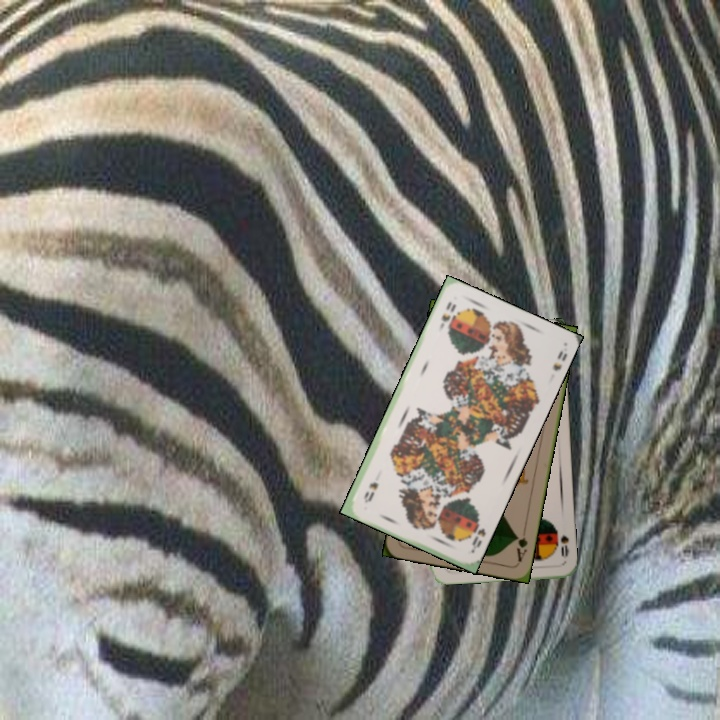GA: (512, 531, 530, 564)
SO: (467, 513, 489, 555), (435, 298, 459, 331), (557, 530, 571, 560)
